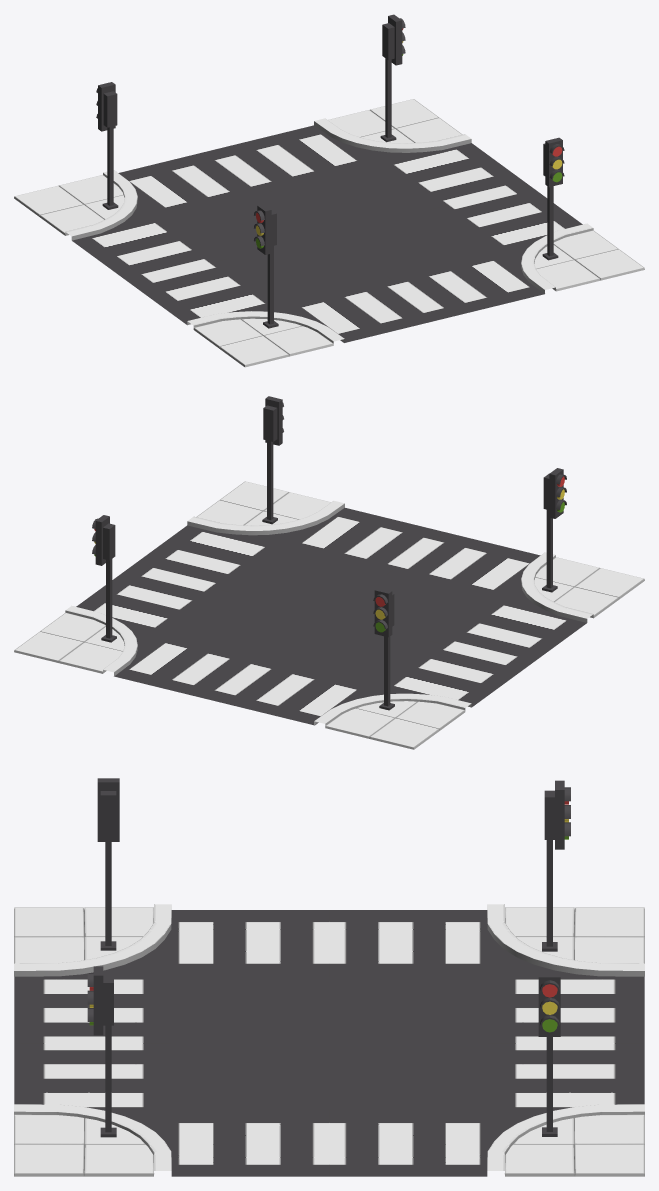
Rendered from RoadFourSide.fbx.
The picture shows the model from 3 angles, top to bottom: view 1: azimuth 30°, elevation 25°; view 2: azimuth 150°, elevation 25°; view 3: azimuth 270°, elevation 25°; orthographic projection. The views are drawn at different scales.
Visible parts, largest first — view 1: Road_E; view 2: Road_E; view 3: Road_E.
Part boxes in pixels (box(x1,y1,x2,y2)): Road_E: box(14, 14, 644, 367); Road_E: box(14, 396, 644, 749); Road_E: box(14, 778, 644, 1176).
Size of the model in its own units: 2000 by 579 by 2000.
